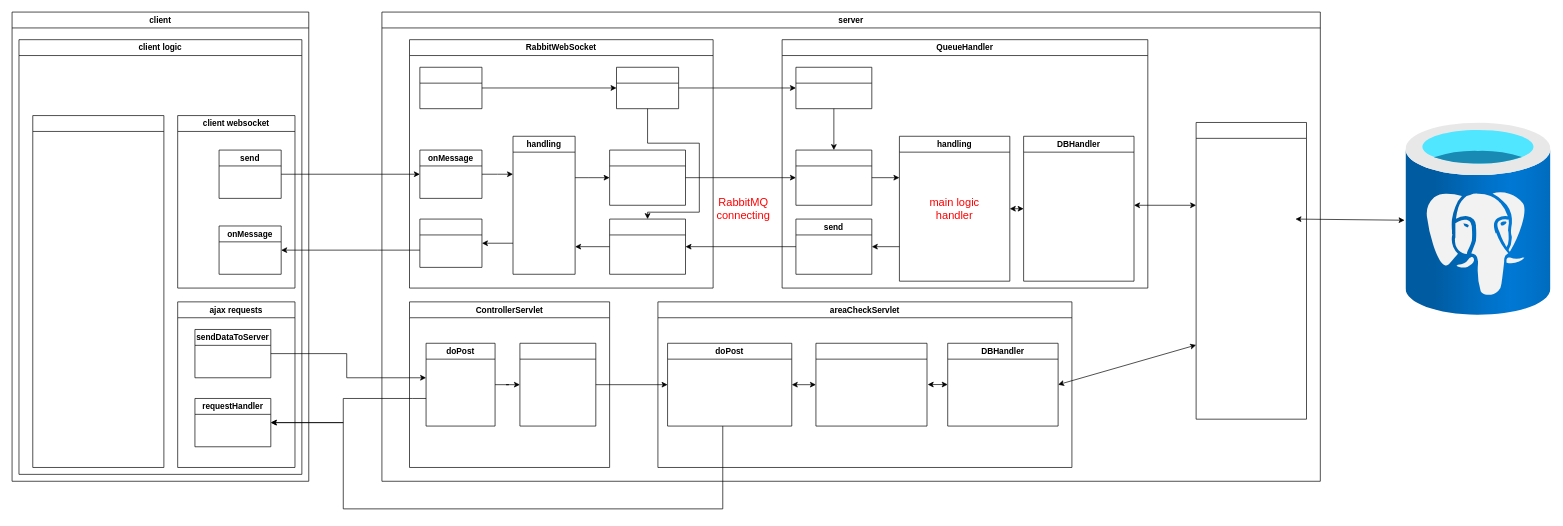
The diagram is 1563 pixels wide and 526 high, and some of its shapes have lost their labels. The shapes that lost their labels are listed below. From the top down, each one's centre as x and y in pixels, then its label:
At pixel 450 88: "onOpen".
At pixel 647 88: "init".
At pixel 833 88: "run".
At pixel 647 177: "rabbitSend".
At pixel 833 177: "recieve".
At pixel 450 242: "doMessage".
At pixel 647 246: "rabbitReceive".
At pixel 1251 270: "DBConnector".
At pixel 98 291: "other logic".
At pixel 557 384: "areaRequest".
At pixel 871 384: "inner logic".
